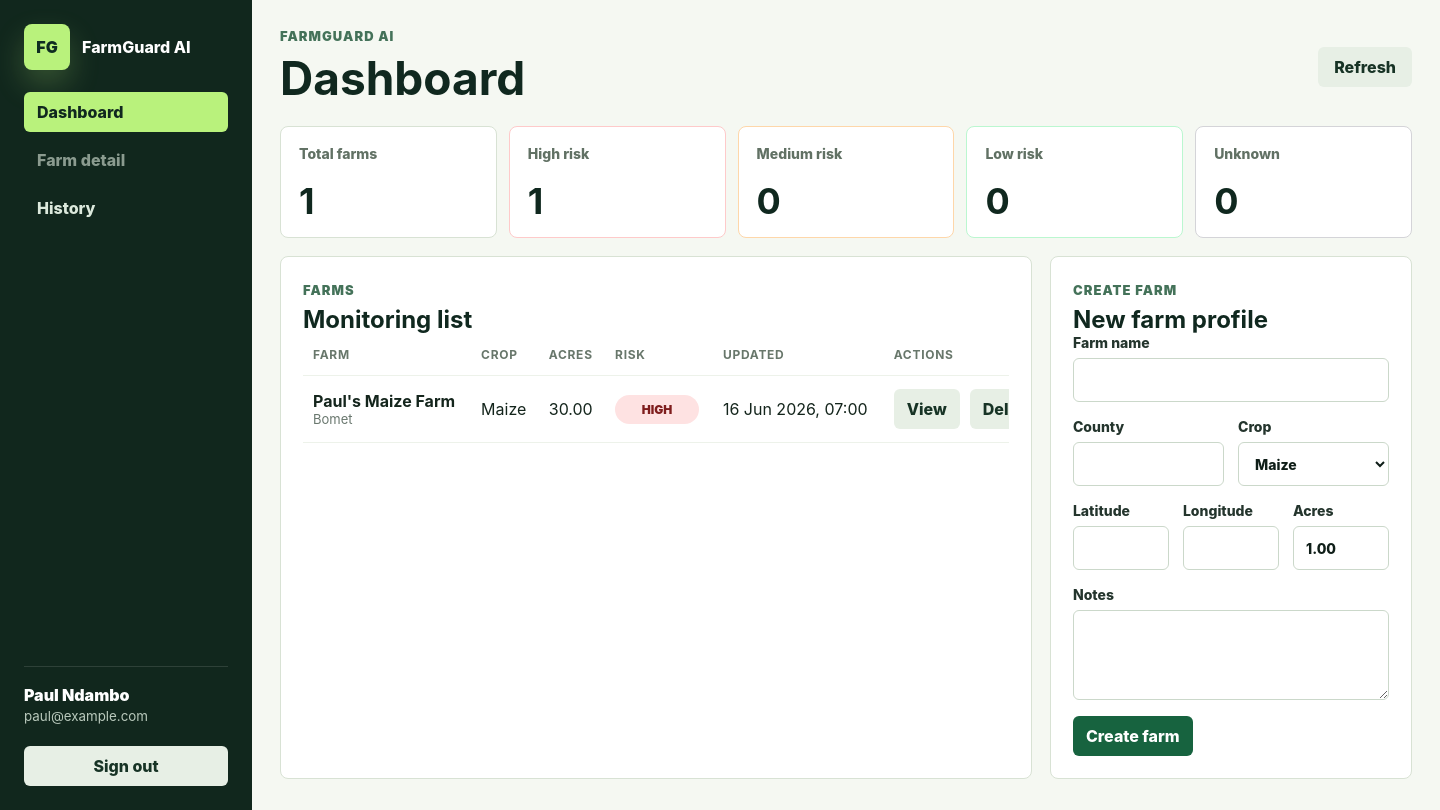
Test: Farm workflows › loads history records from backend history endpoints
Expected: the heading "Dashboard" is shown, [280,50,525,106]
Click the button "History".
click(126, 208)  # box [24,188,228,228]
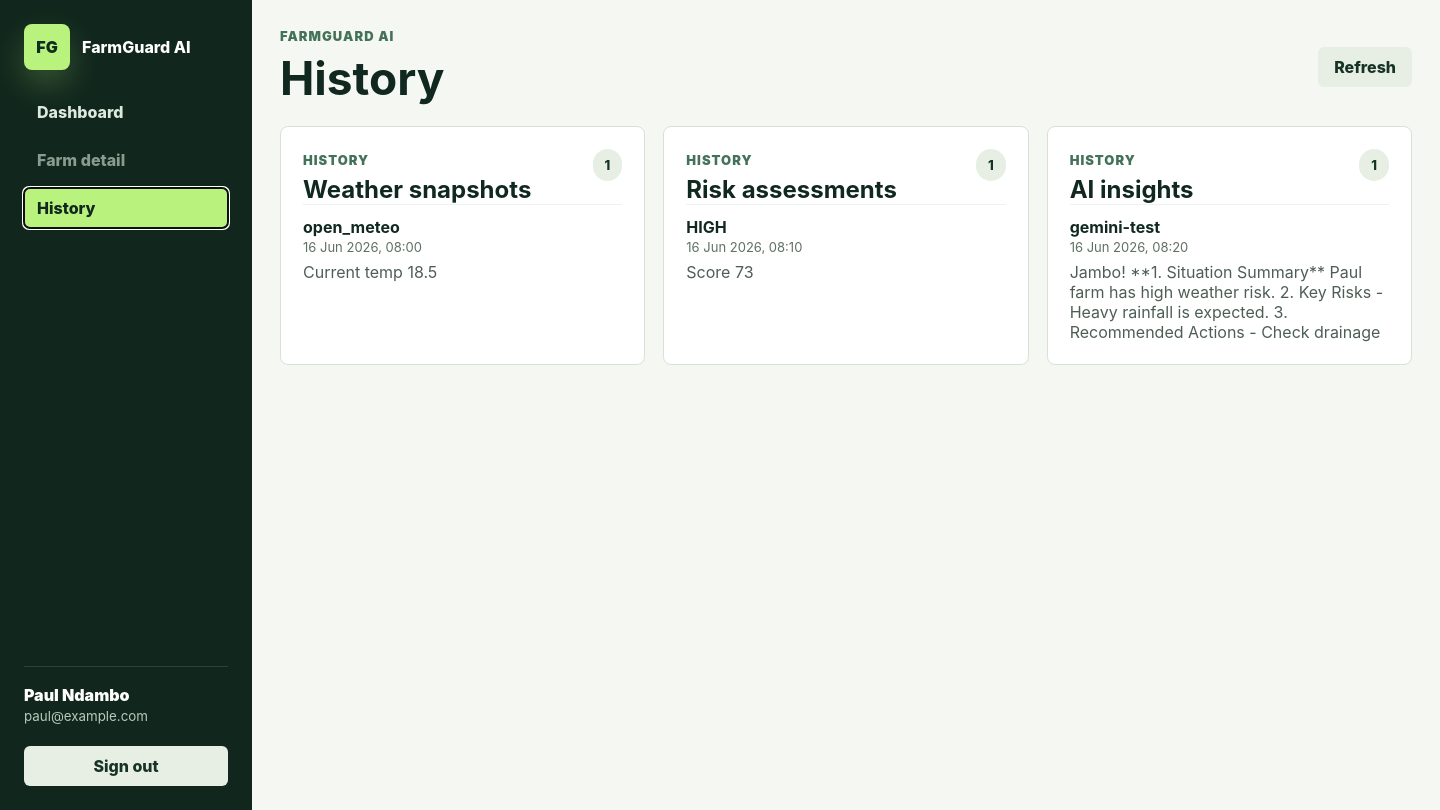
Expected: the heading "History" is shown, [280,50,444,106]
Expected: the heading "Weather snapshots" is shown, [303,175,531,204]
Expected: the heading "Risk assessments" is shown, [686,175,897,204]
